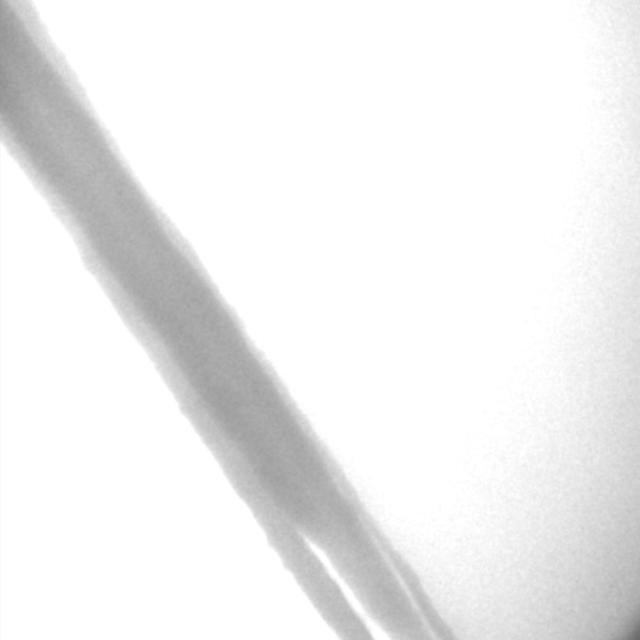unfused: (296, 502, 435, 635)
